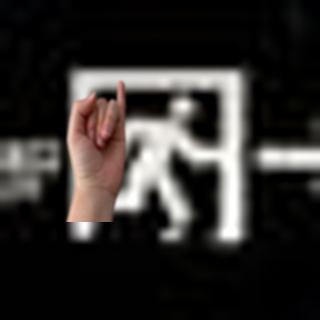Fine: (64, 78, 137, 215)
